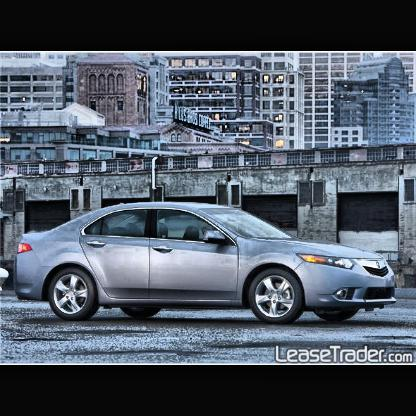Acura TSX Sedan 2012: (15, 203, 397, 326)
